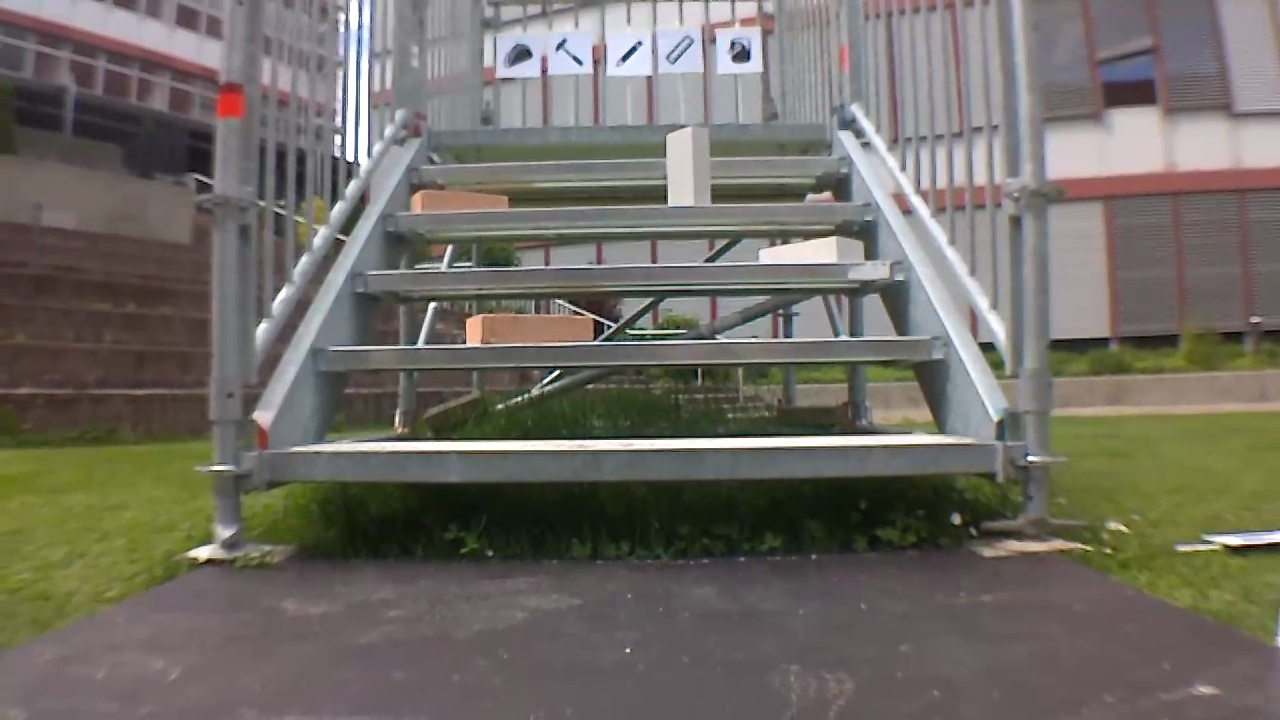brick: (465, 314, 592, 343), (667, 128, 711, 206), (759, 235, 863, 263), (409, 190, 508, 212)
bucket: (720, 32, 755, 65)
edge: (266, 441, 998, 481), (318, 336, 949, 364), (355, 260, 912, 285), (388, 199, 872, 224), (411, 157, 852, 178), (431, 123, 830, 144)
hammer: (549, 35, 588, 70)
pencil: (611, 34, 644, 70)
ruler: (661, 31, 698, 70)
stairs: (190, 0, 1068, 551)
steps: (251, 116, 1006, 494)
taco: (498, 39, 536, 73)
